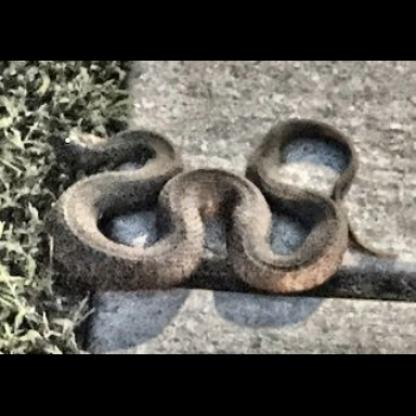Snake: (39, 111, 360, 300)
